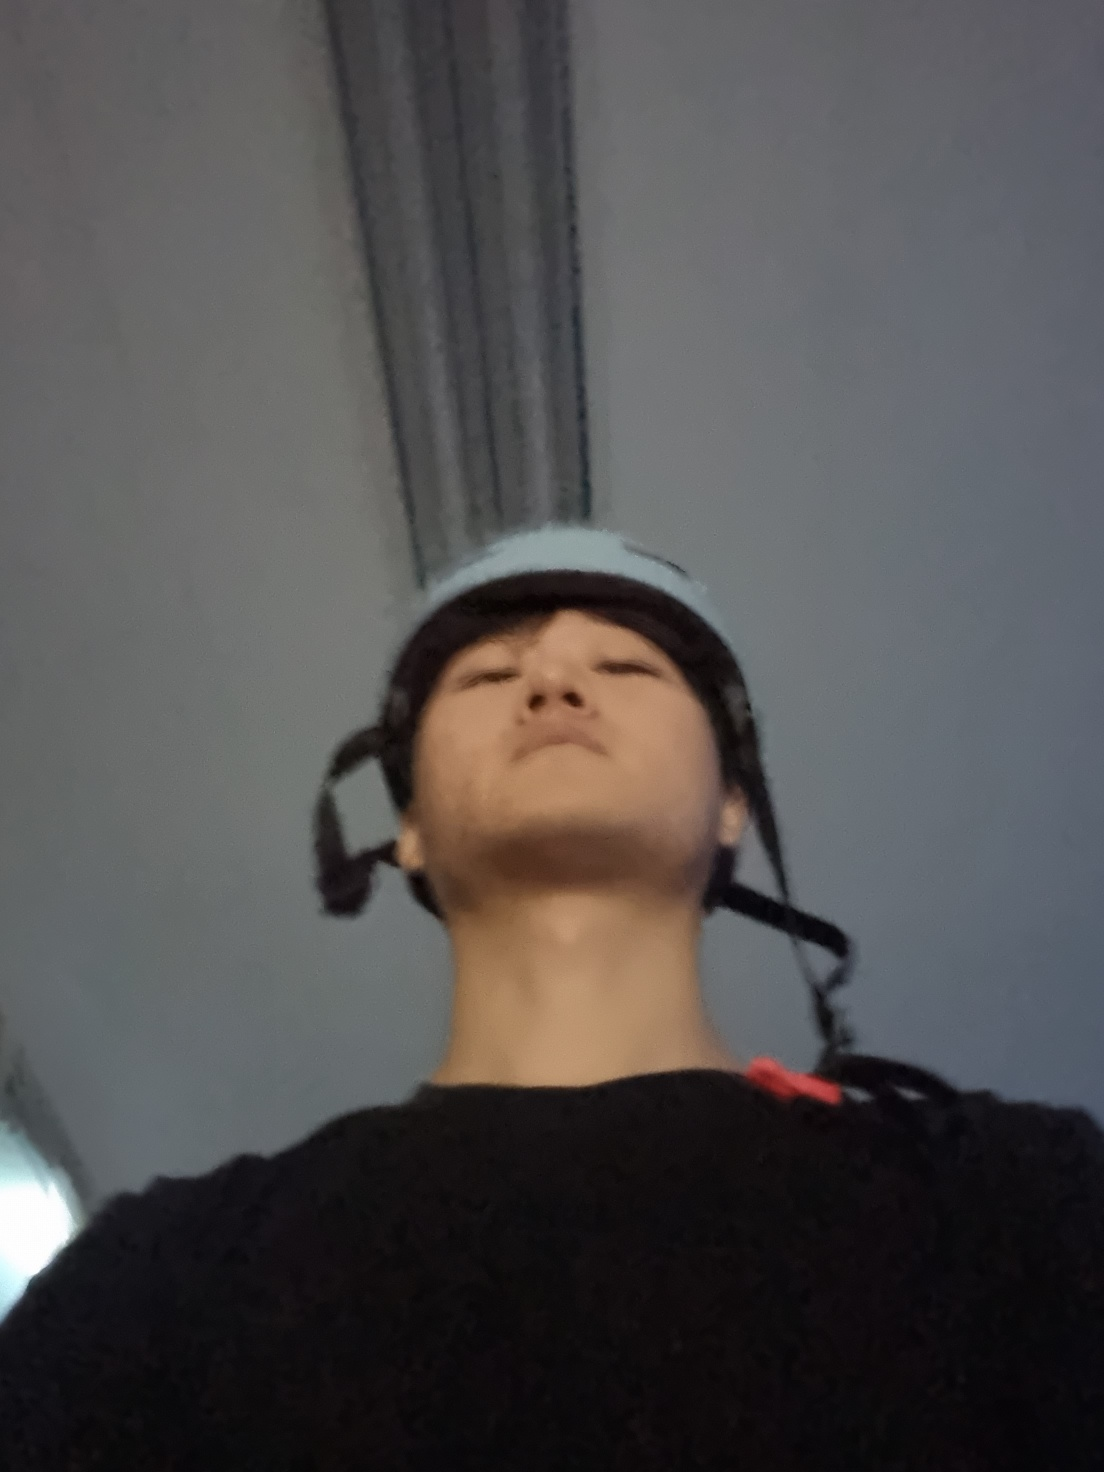Non-Helmet: (335, 504, 811, 961)
